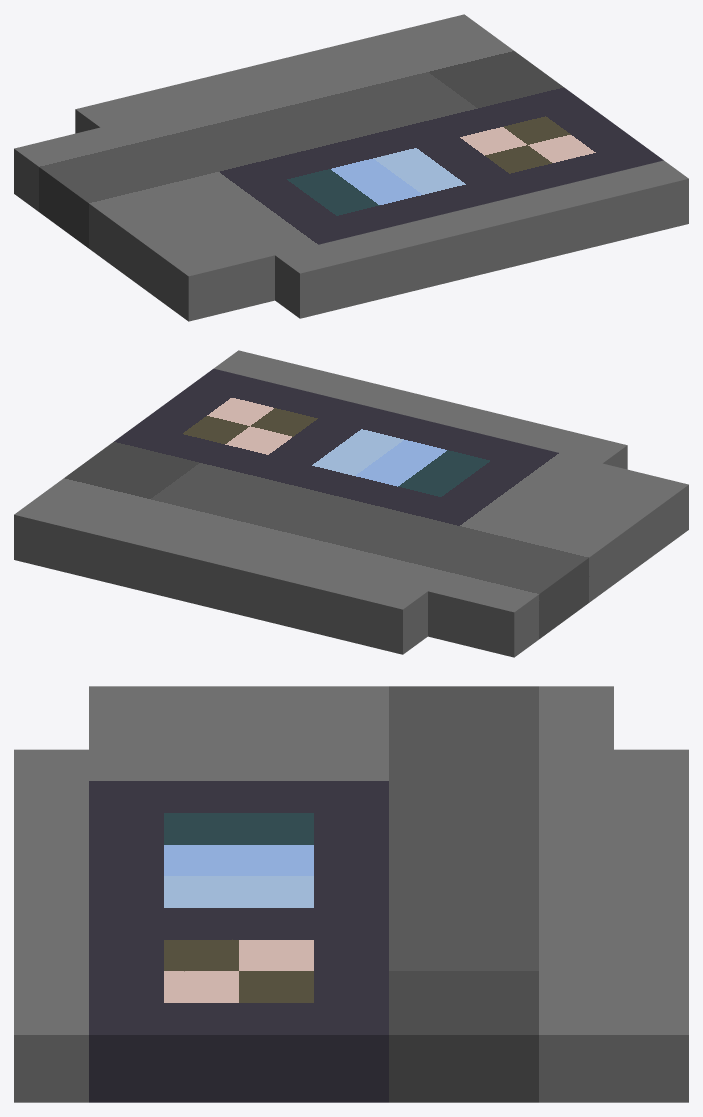
Rendered from cartridge2.fbx.
3 renders of one model, top to bottom at view 1: azimuth 30°, elevation 25°; view 2: azimuth 150°, elevation 25°; view 3: azimuth 270°, elevation 25°, orthographic. The views are drawn at different scales.
Parts seen in each view (by area): view 1: cartridge2; view 2: cartridge2; view 3: cartridge2.
Part boxes in pixels (left/top/right/bottom): cartridge2: left=14, top=14, right=688, bottom=321; cartridge2: left=14, top=350, right=688, bottom=657; cartridge2: left=14, top=686, right=688, bottom=1102.
Size of the model in its own units: 11 by 1 by 9.
